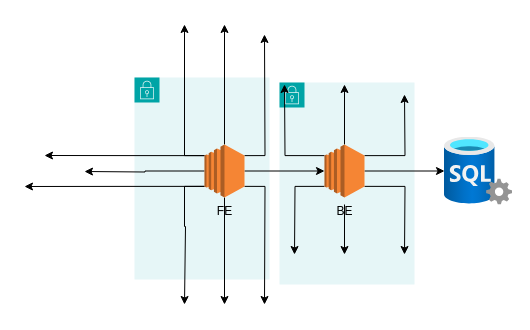
This 530x330 diagram has some shape labels left out. Each missing label, with the box of its shape:
Private subnet: (278, 82, 414, 284)
Public subnet: (134, 76, 270, 280)
